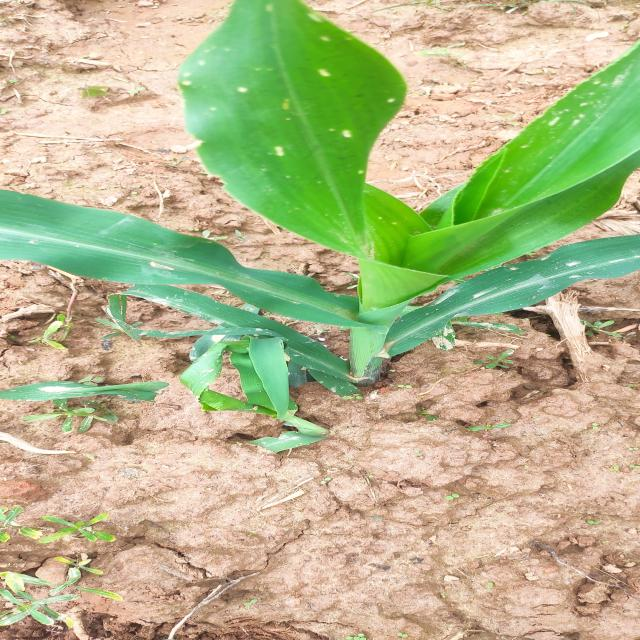maize: (0, 0, 639, 410)
weed: (0, 555, 135, 640), (0, 496, 139, 558), (22, 391, 146, 443), (14, 306, 90, 349), (436, 413, 529, 440), (52, 82, 139, 104), (404, 37, 474, 60), (572, 507, 620, 528)
